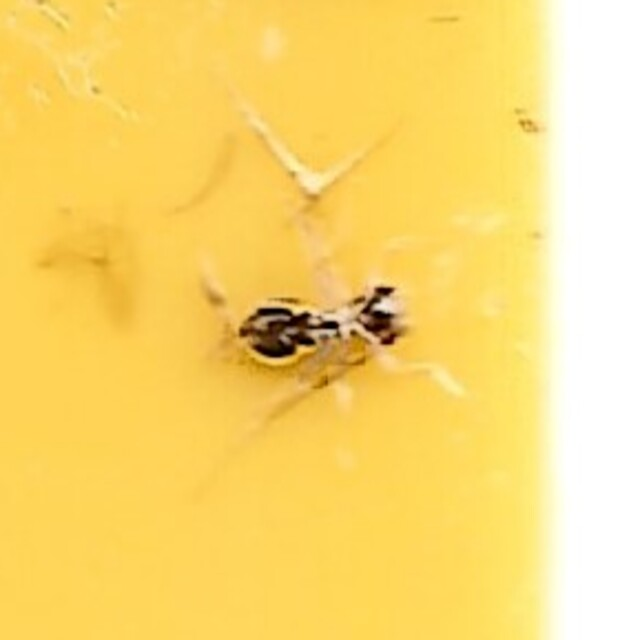Isoptera: (221, 259, 419, 381)
